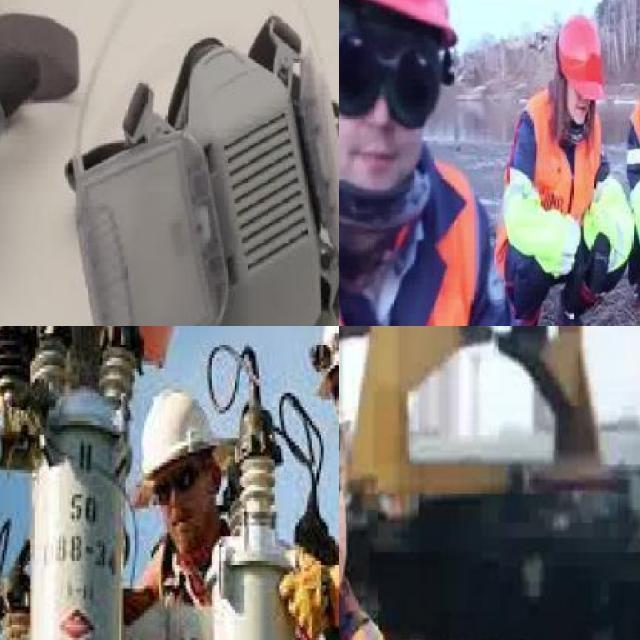apron: (278, 535, 339, 640)
